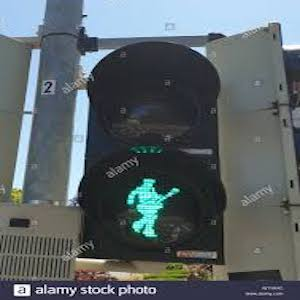green: (123, 169, 180, 240)
